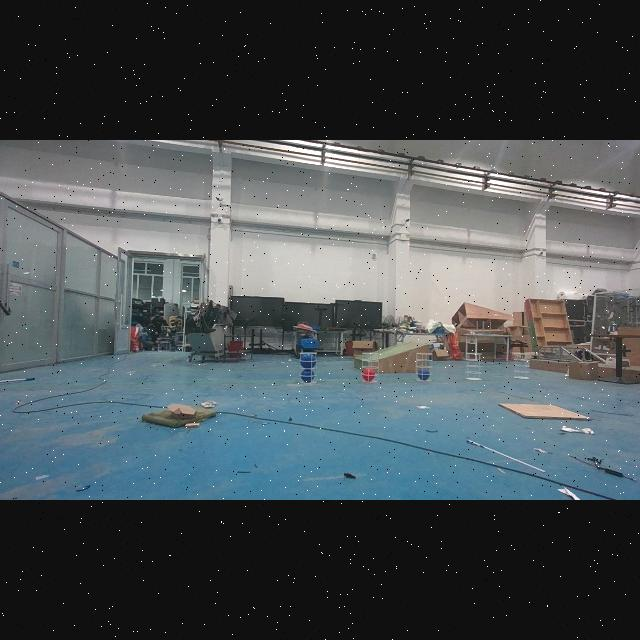B: (300, 354, 316, 368), (302, 370, 314, 382), (418, 368, 430, 380)
R: (361, 370, 375, 382)
S: (297, 349, 319, 386), (359, 350, 381, 386), (413, 351, 435, 384), (461, 352, 485, 382), (512, 350, 532, 382)
